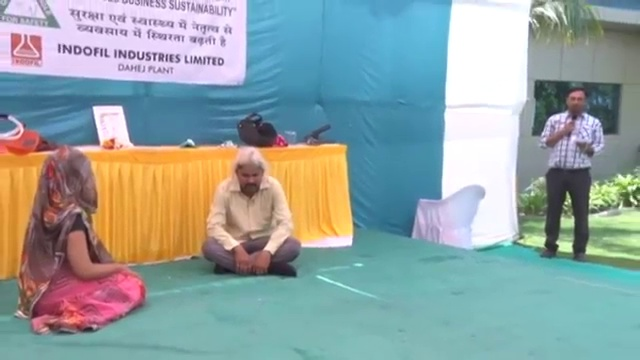helmet_off: (39, 145, 99, 210), (234, 150, 266, 196), (565, 87, 587, 117)
person: (12, 145, 146, 336), (199, 147, 303, 278), (536, 86, 608, 264)
